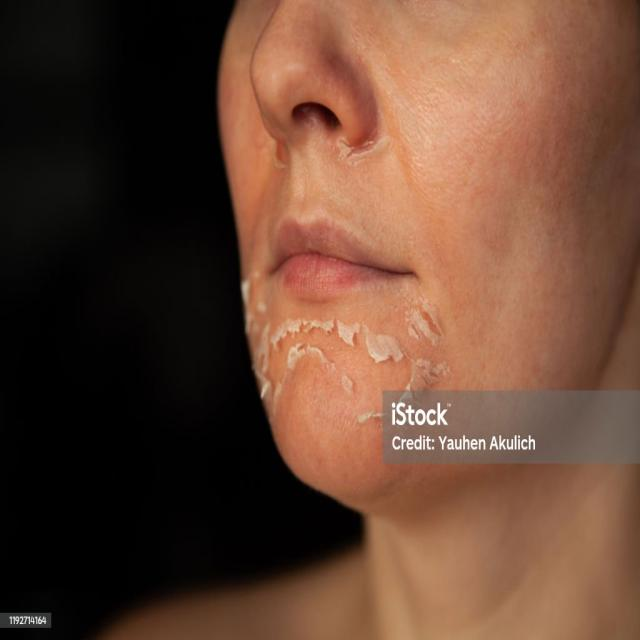Dry-Skin: (232, 268, 463, 479), (338, 83, 422, 202)
